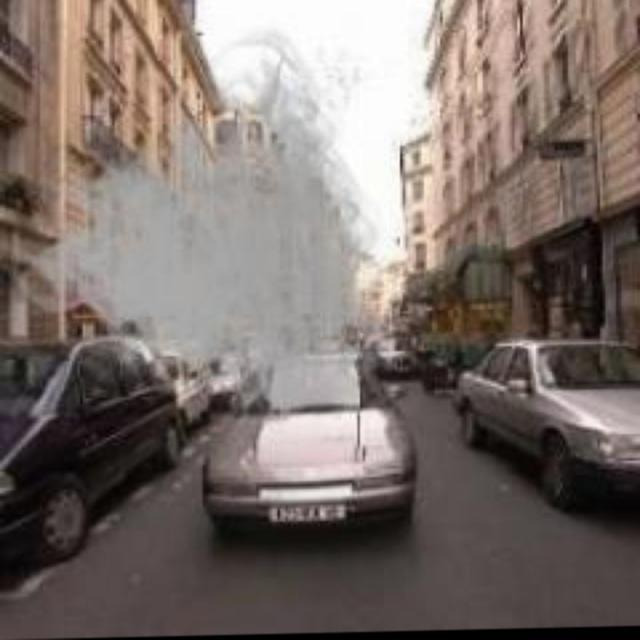Smoke: (44, 23, 388, 439)
